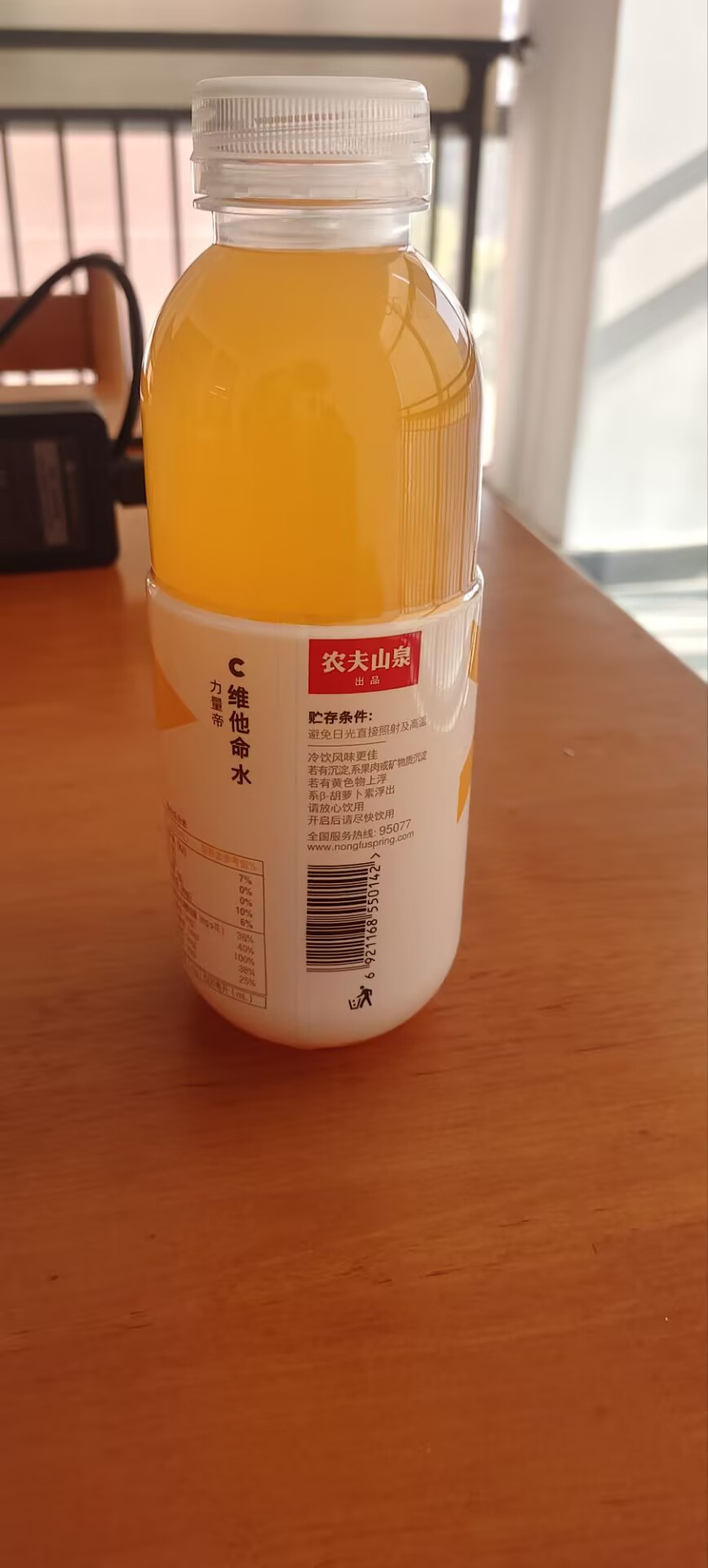redbull: (161, 61, 487, 1040)
